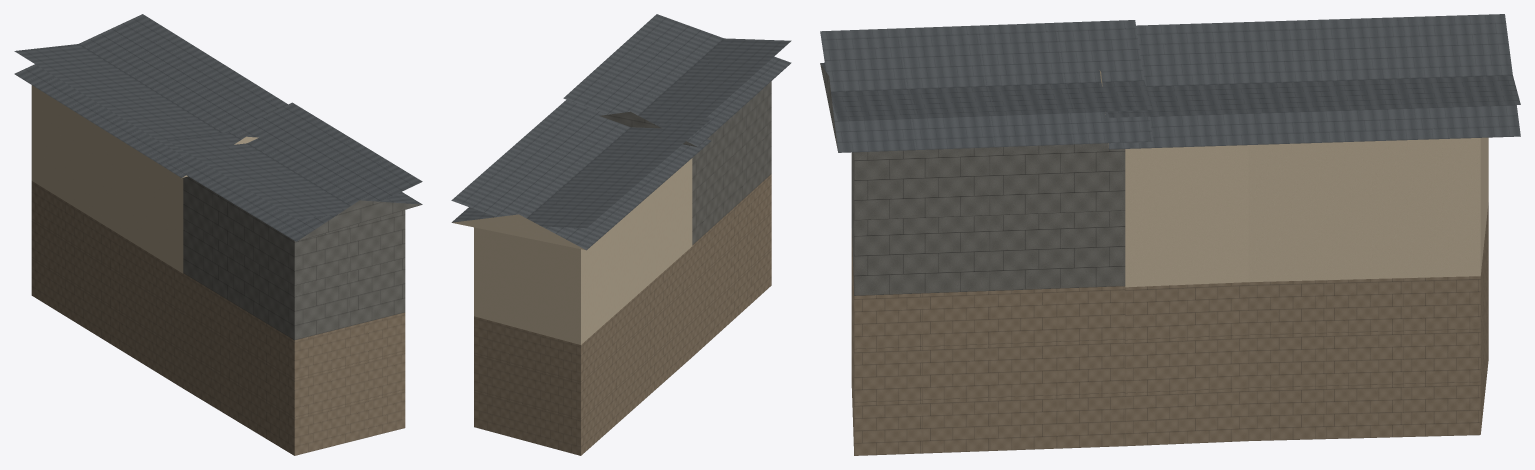
File: bld_c37_-28_439.gltf
The picture shows the model from 3 angles, left to right: view 1: azimuth 30°, elevation 25°; view 2: azimuth 150°, elevation 25°; view 3: azimuth 270°, elevation 25°; orthographic projection. The views are drawn at different scales.
Parts seen in each view (by area): view 1: bld_c37_-28_439; view 2: bld_c37_-28_439; view 3: bld_c37_-28_439.
Part boxes in pixels (<box>): bld_c37_-28_439: <box>14,14,422,455</box>; bld_c37_-28_439: <box>451,14,791,455</box>; bld_c37_-28_439: <box>820,14,1520,455</box>.
Size of the model in its own units: 7.67 by 10.8 by 20.01.
Materials: 6 (6 with a texture image).
